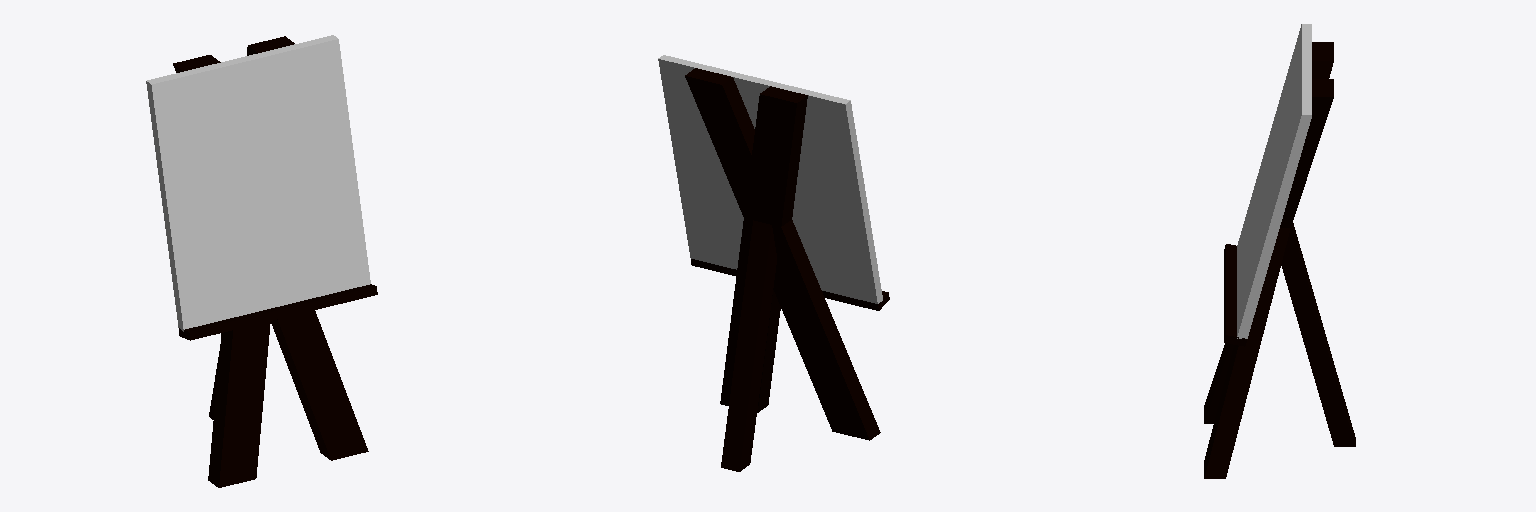
Rendered from PaintingCanva.obj.
3 views of the same model, side by side, from view 1: azimuth 30°, elevation 25°; view 2: azimuth 150°, elevation 25°; view 3: azimuth 270°, elevation 25° (orthographic).
Visible parts, largest first — view 1: Cube.002, Cube.001; view 2: Cube.001, Cube.002; view 3: Cube.001, Cube.002.
Boxes of the visible parts, <box> form: Cube.002: <box>146,35,370,331</box>; Cube.001: <box>173,36,377,487</box>; Cube.001: <box>685,68,889,471</box>; Cube.002: <box>658,55,882,303</box>; Cube.001: <box>1204,42,1355,478</box>; Cube.002: <box>1237,24,1311,338</box>.
Size of the model in its own units: 1 by 1.9 by 0.7.